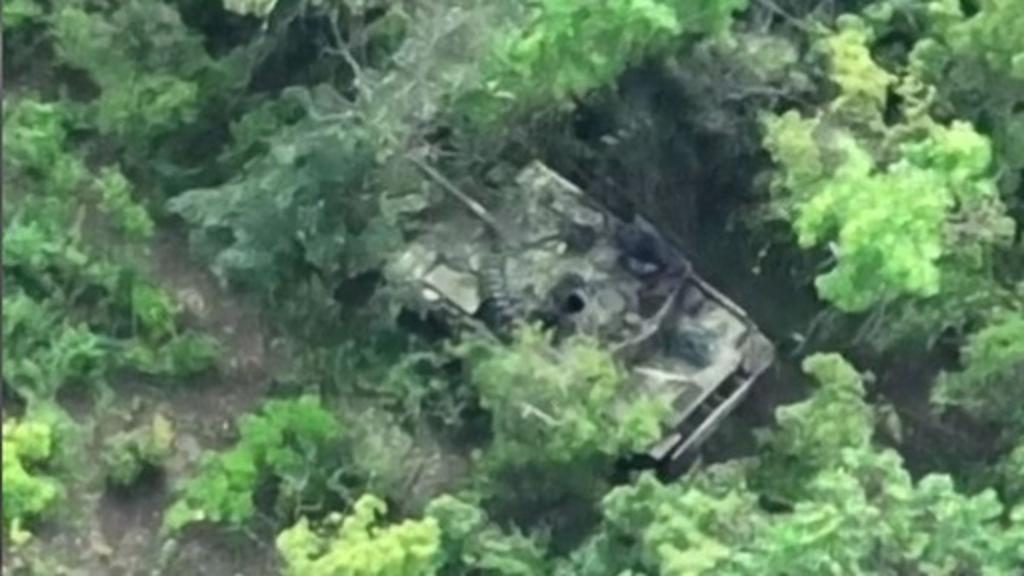TANK: (346, 88, 780, 496)
